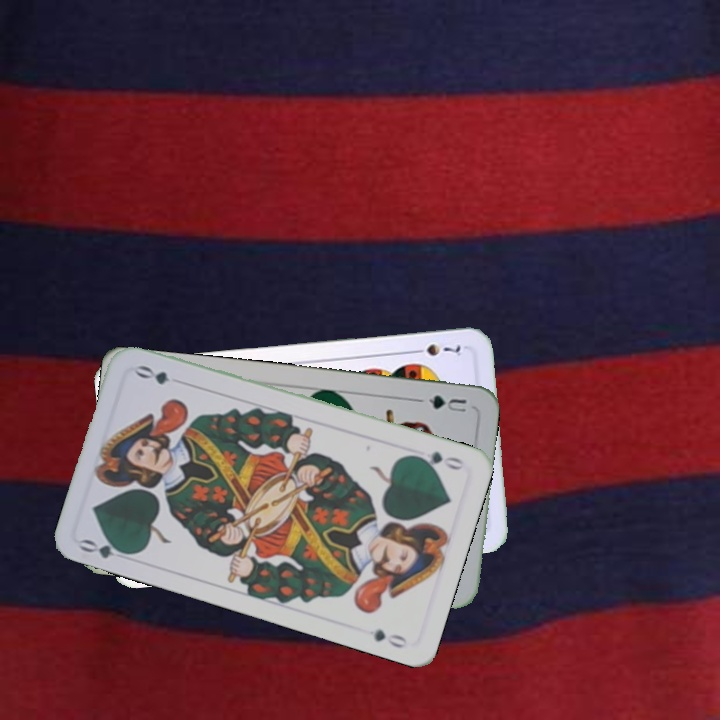GO: (76, 534, 136, 561), (408, 447, 466, 473)
GU: (414, 391, 469, 415)
S7: (407, 340, 464, 359)
